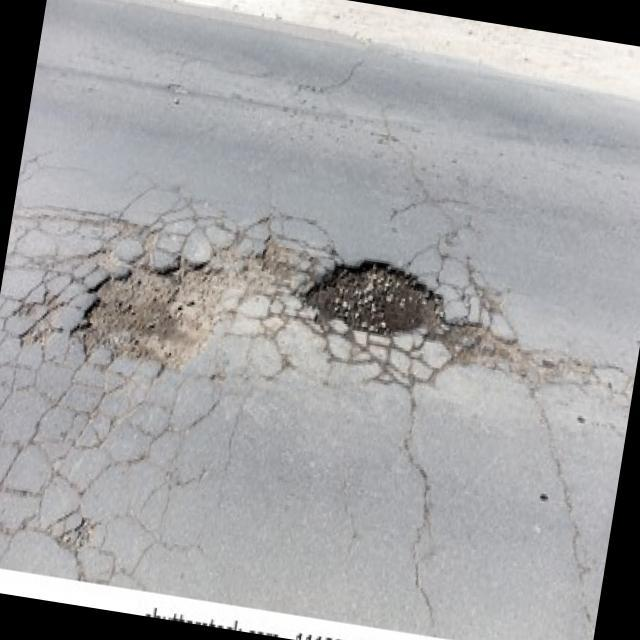Pothole: (72, 242, 230, 387), (298, 247, 447, 355), (438, 316, 580, 394), (253, 236, 300, 288)
